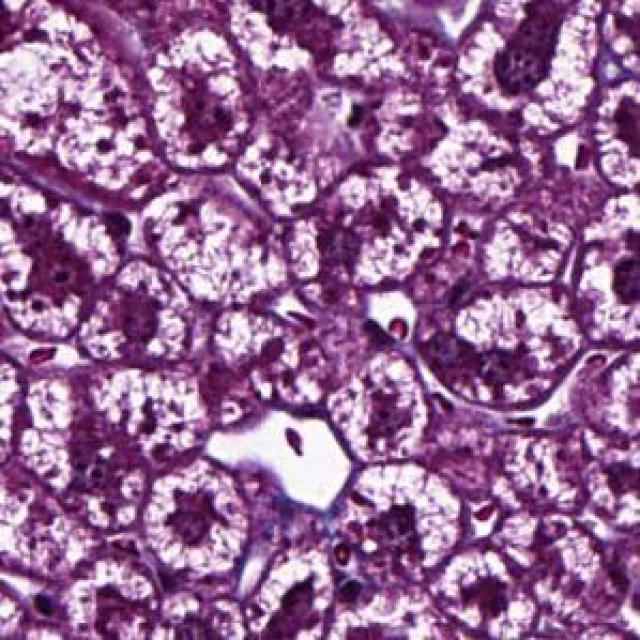inflammation: (416, 274, 584, 422), (133, 19, 263, 178), (139, 458, 257, 578)
